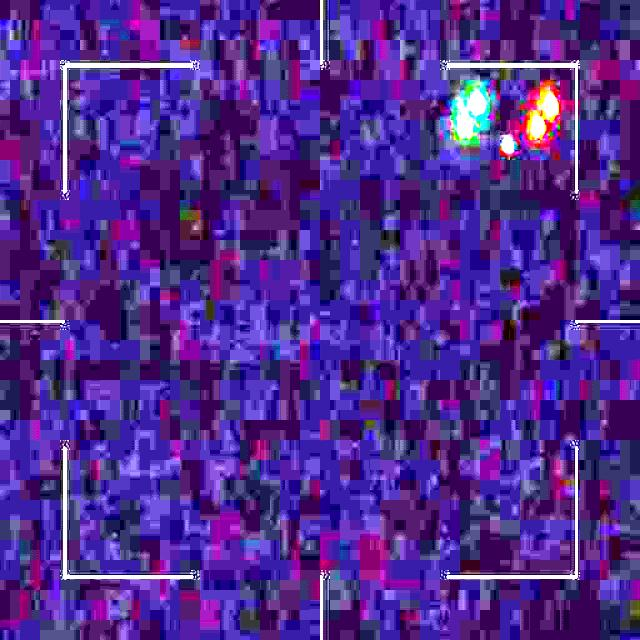bird: (455, 90, 558, 152)
